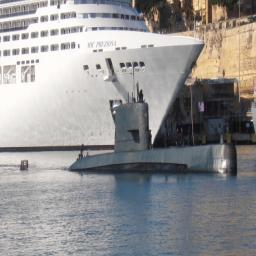submarine: (14, 86, 238, 177)
